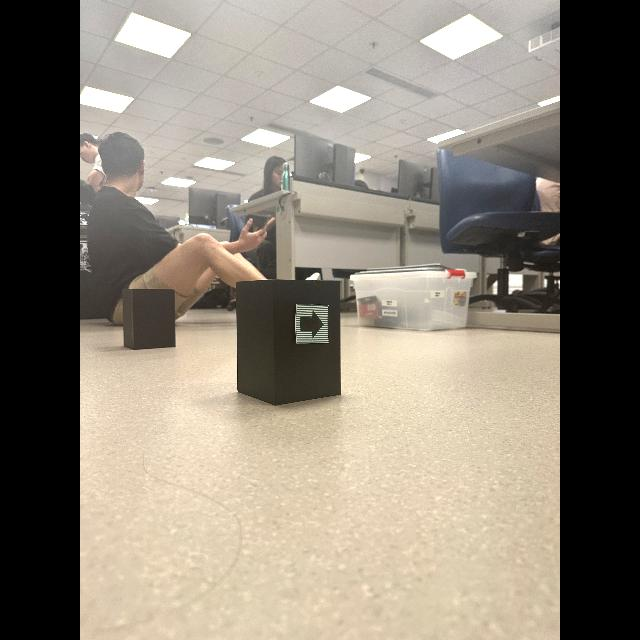RIGHT: (300, 310, 324, 338)
